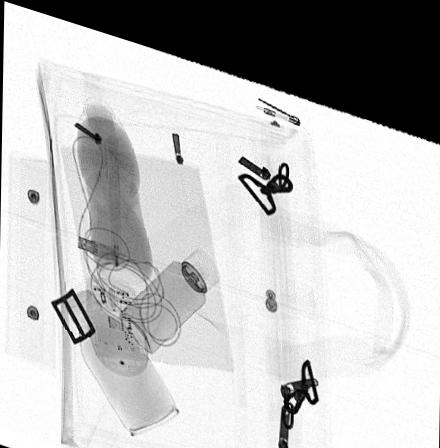Sprayer: (119, 237, 218, 344)
